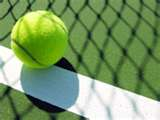tennis ball: (10, 10, 69, 69)
